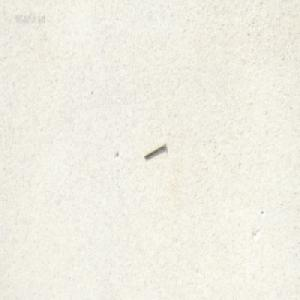Bolt: (142, 140, 166, 160)
